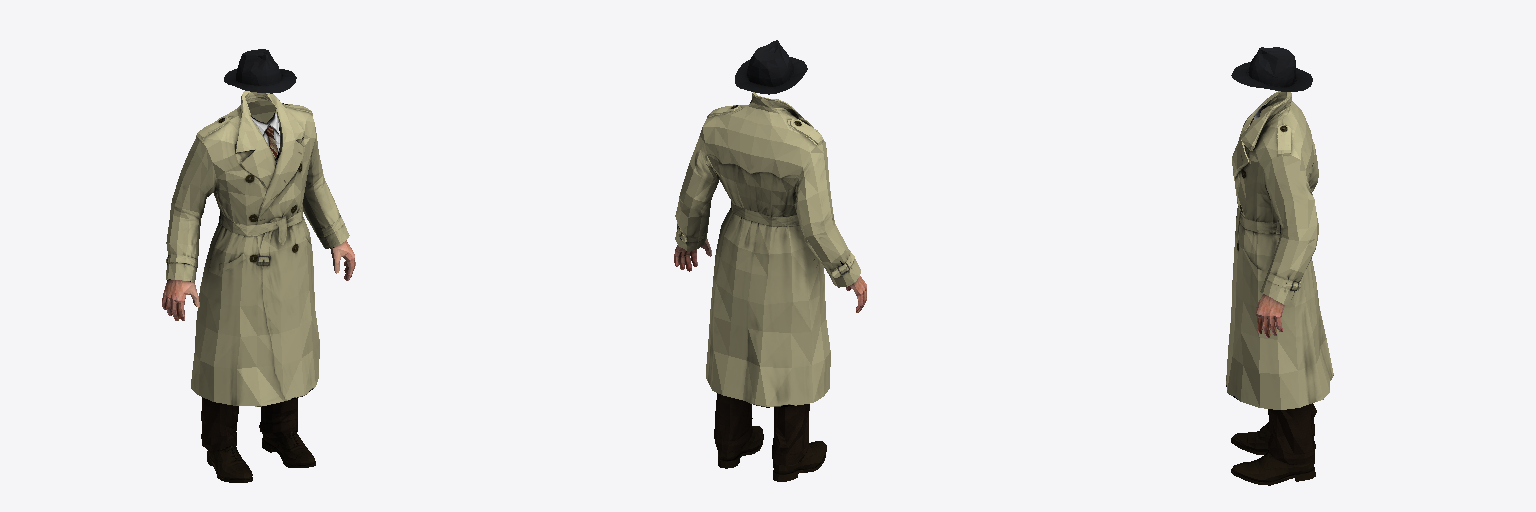
The picture shows the model from 3 angles: view 1: azimuth 30°, elevation 25°; view 2: azimuth 150°, elevation 25°; view 3: azimuth 270°, elevation 25°; orthographic projection.
Bounding box in the file's own units: 0.9491 × 2 × 0.4698.
1 materials, 1 textured.